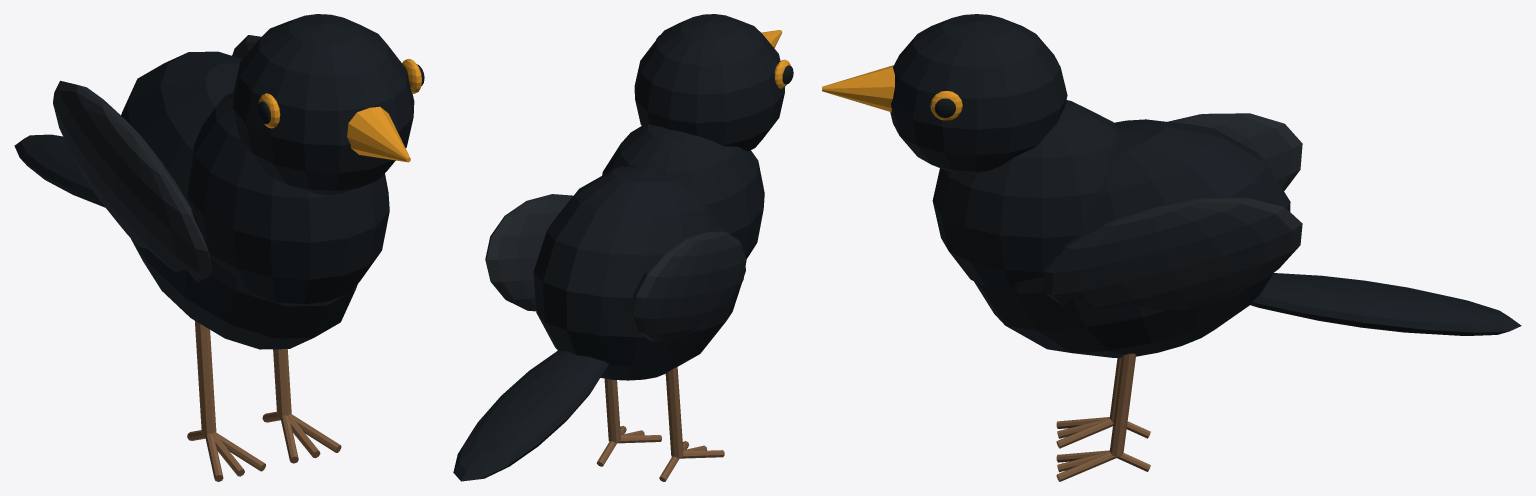
File: f14-repeat-before.glb
3 renders of one model, left to right at view 1: azimuth 30°, elevation 25°; view 2: azimuth 150°, elevation 25°; view 3: azimuth 270°, elevation 25°, orthographic. The views are drawn at different scales.
Parts seen in each view (by area): view 1: Petto, Testa.001, Corpo, Ala -1, Coda, Becco, Gamba -1, Gamba 1, Dito -1:1, Dito 1:1, Dito 1:-1, Dito -1:-1; view 2: Corpo, Testa.001, Coda, Petto, Ala -1, Ala 1, Gamba -1, Gamba 1; view 3: Corpo, Ala 1, Testa.001, Petto, Coda, Ala -1, Becco, Gamba 1.
Part boxes in pixels (x1,y1,x2,y2): Petto: [187, 92, 389, 305]; Testa.001: [233, 14, 414, 195]; Corpo: [121, 51, 357, 349]; Ala -1: [53, 80, 212, 282]; Coda: [14, 134, 104, 207]; Becco: [347, 106, 410, 162]; Gamba -1: [195, 321, 216, 435]; Gamba 1: [273, 349, 291, 417]; Dito -1:1: [214, 432, 265, 471]; Dito 1:1: [289, 414, 341, 452]; Dito 1:-1: [280, 415, 298, 463]; Dito -1:-1: [205, 433, 223, 481]; Corpo: [533, 166, 745, 380]; Testa.001: [634, 14, 784, 151]; Coda: [453, 350, 608, 481]; Petto: [602, 124, 764, 258]; Ala -1: [630, 231, 746, 341]; Ala 1: [485, 194, 573, 311]; Gamba -1: [665, 367, 683, 458]; Gamba 1: [604, 378, 620, 442]; Corpo: [974, 119, 1290, 357]; Ala 1: [1042, 197, 1302, 310]; Testa.001: [890, 14, 1067, 173]; Petto: [932, 100, 1116, 289]; Coda: [1250, 273, 1521, 335]; Ala -1: [1167, 113, 1302, 190]; Becco: [822, 65, 894, 112]; Gamba 1: [1109, 353, 1135, 456].
Size of the model in its own units: 0.0957 by 0.2057 by 0.3007.
